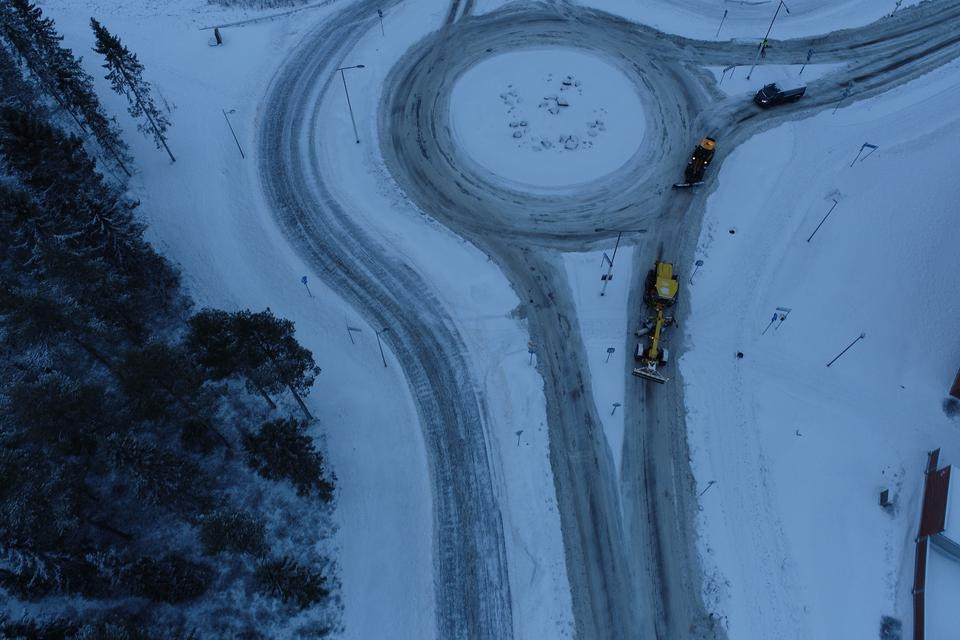roundabout: (248, 0, 760, 349)
